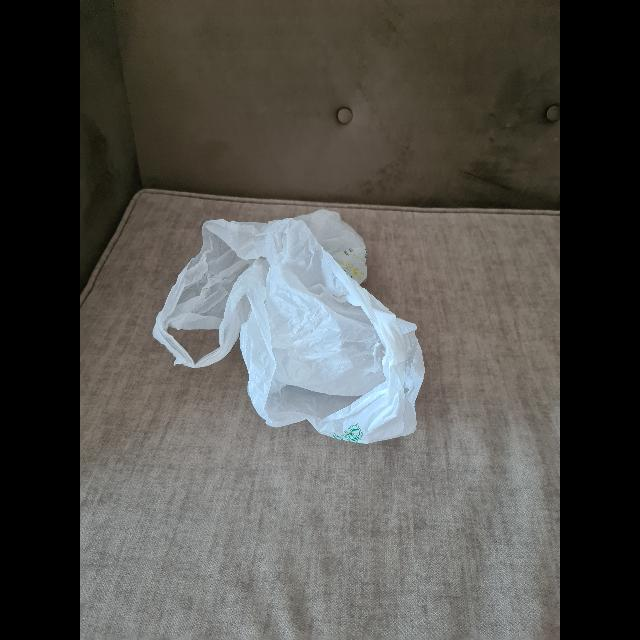plastic_bag: (152, 203, 426, 444)
